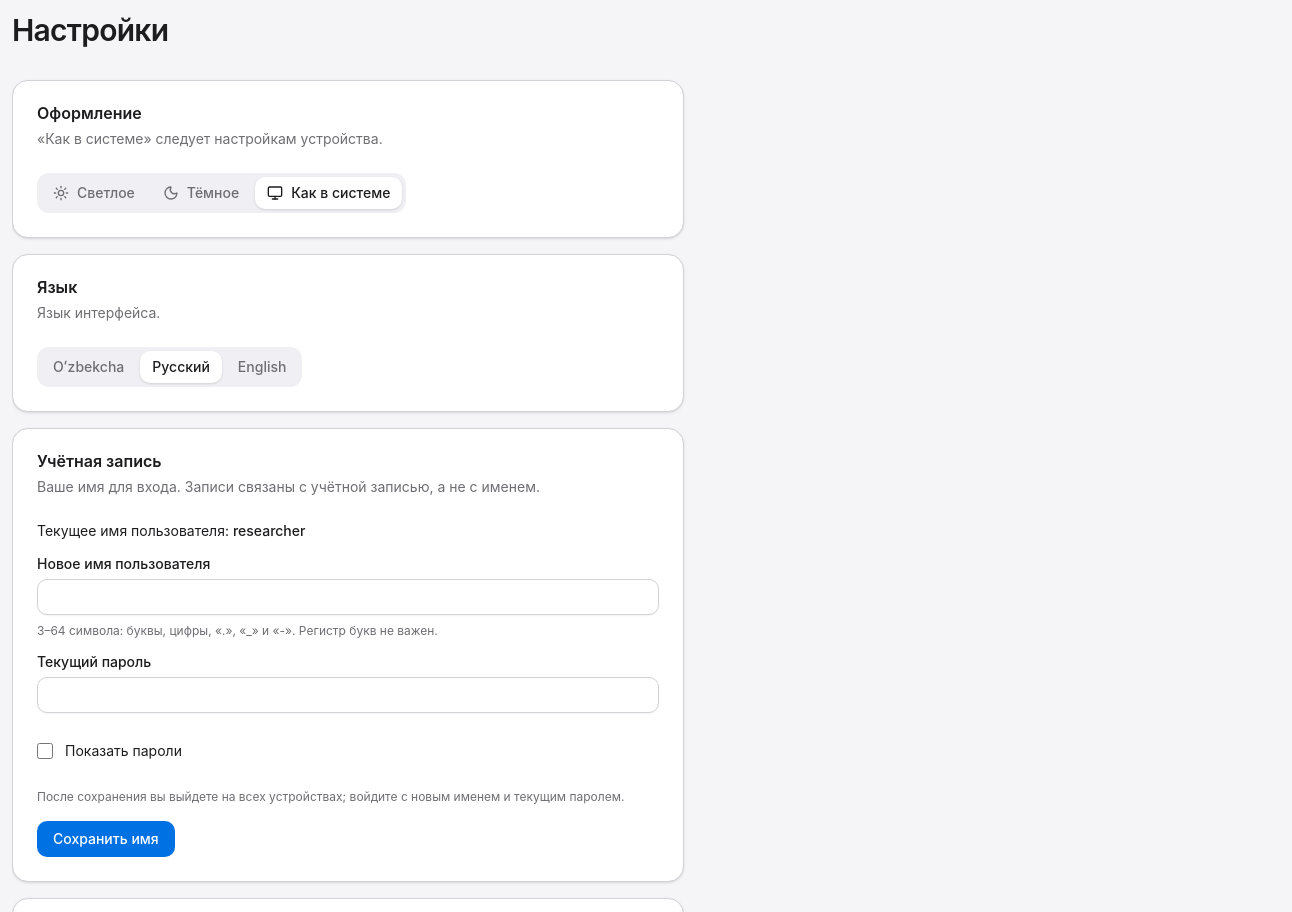
Test: Settings → Account: change username › works in ru
Expected: the button "Сохранить имя" is shown, [37,821,175,857]
Type "hunter" into the field labelled "Новое имя пользователя".
click(348, 597); type("hunter")  # box [37,579,659,615]
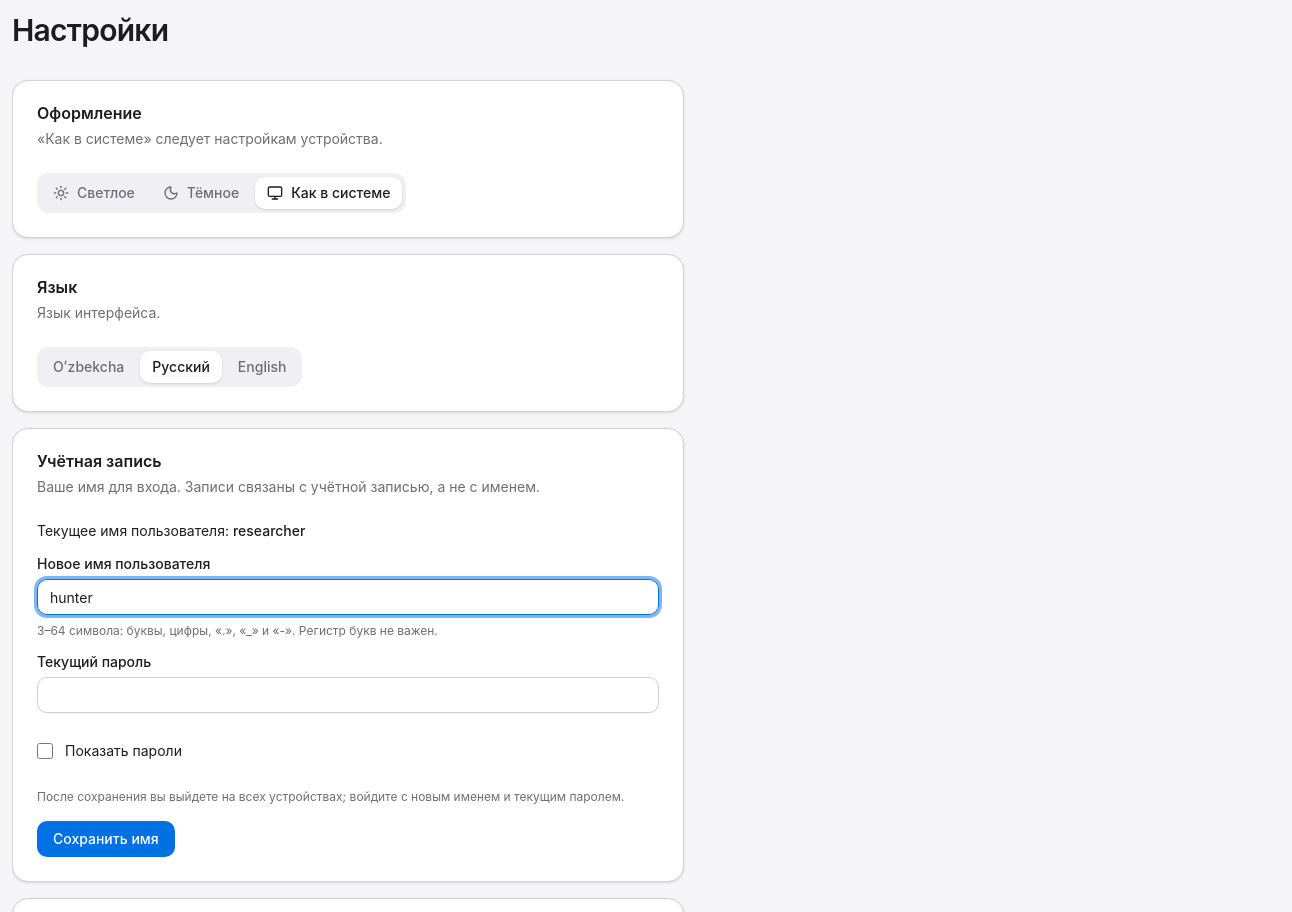
Type "current passphrase" into the password field labelled "Текущий пароль".
click(348, 695); type("current passphrase")  # box [37,677,659,713]
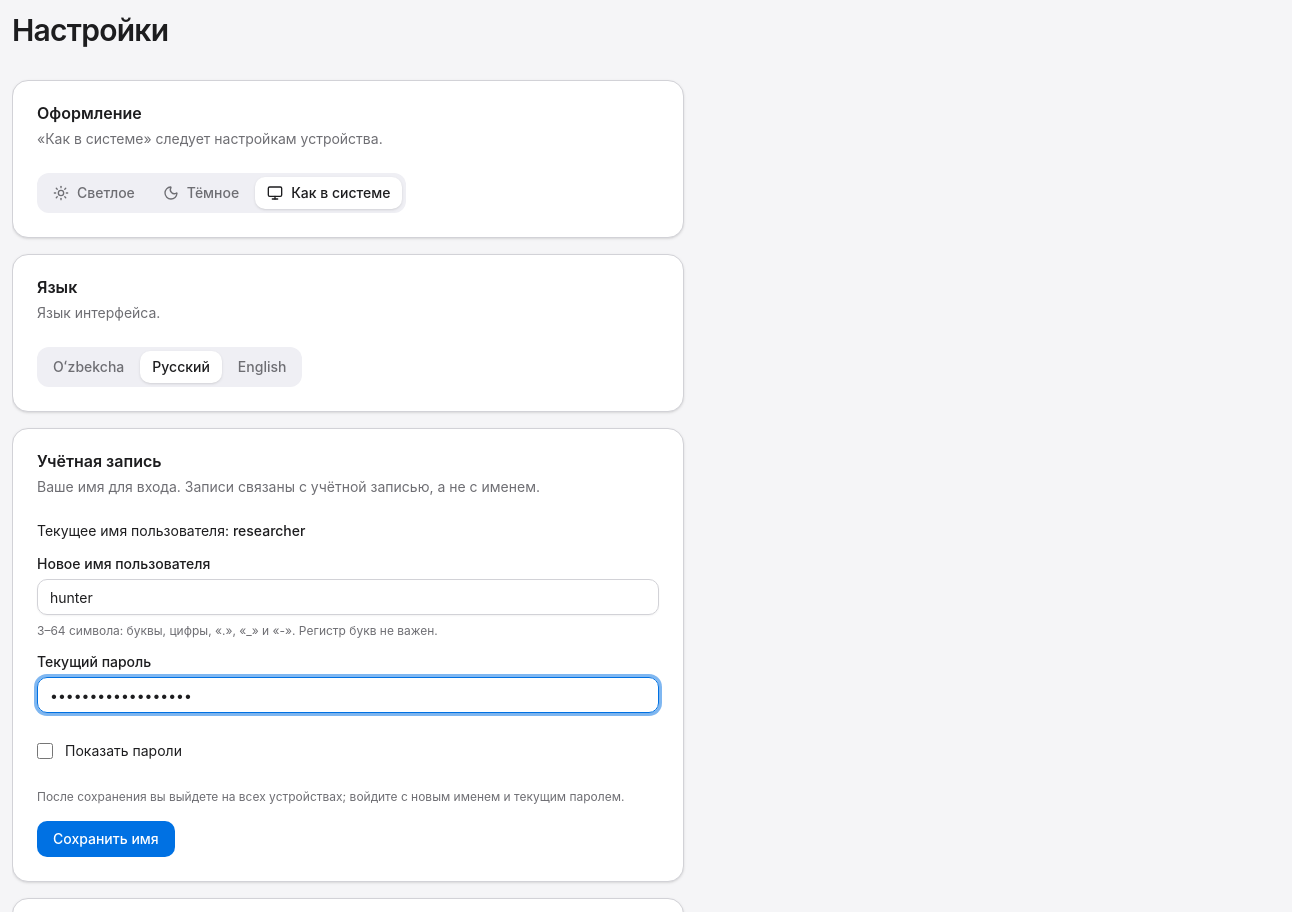
Click the button "Сохранить имя".
click(106, 839)  # box [37,821,175,857]
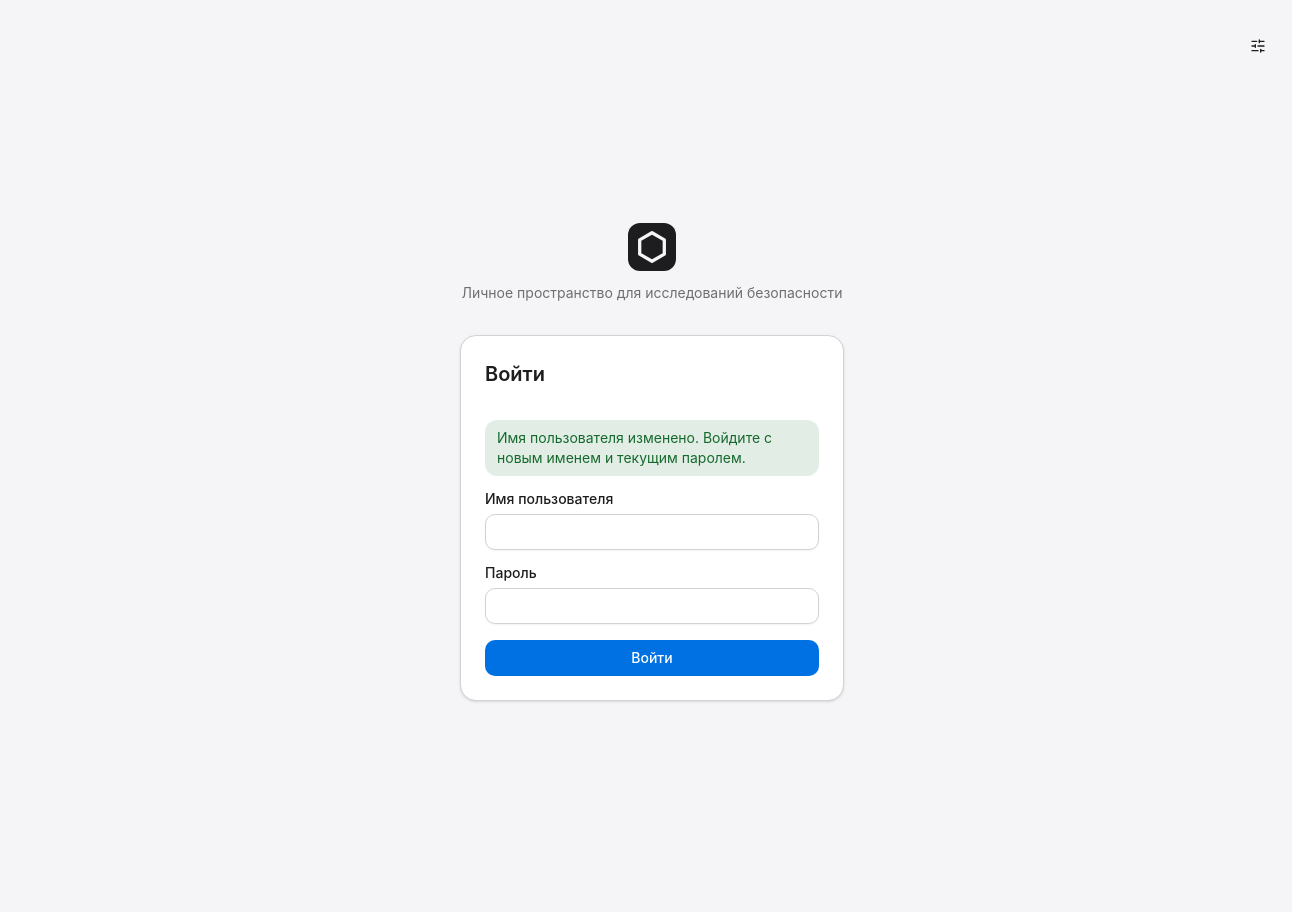
Result: the text "Имя пользователя изменено. Войдите с новым именем и текущим паролем." is shown at [485,420,819,476]
